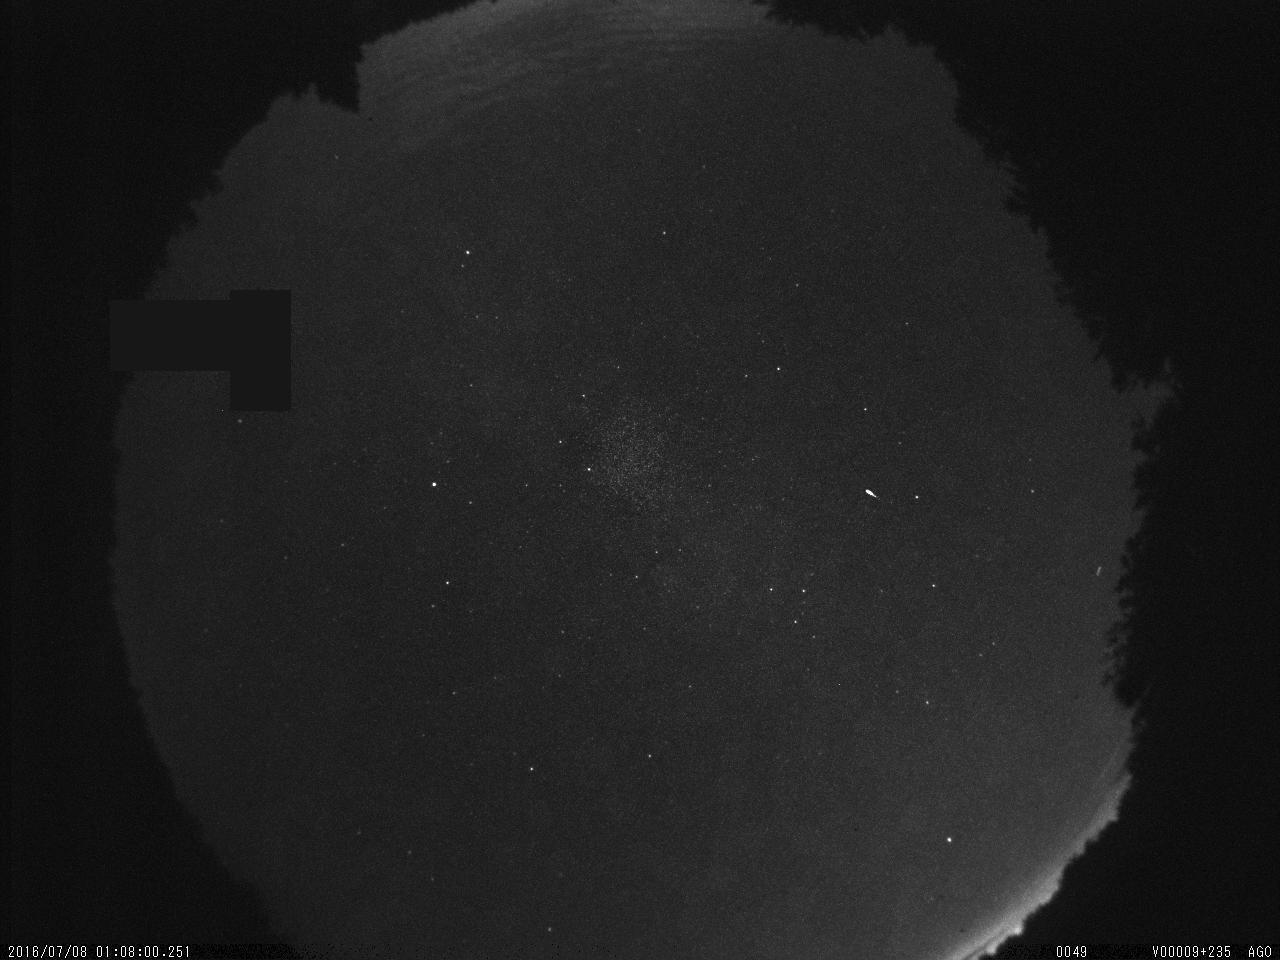Meteor: (860, 484, 883, 506)
